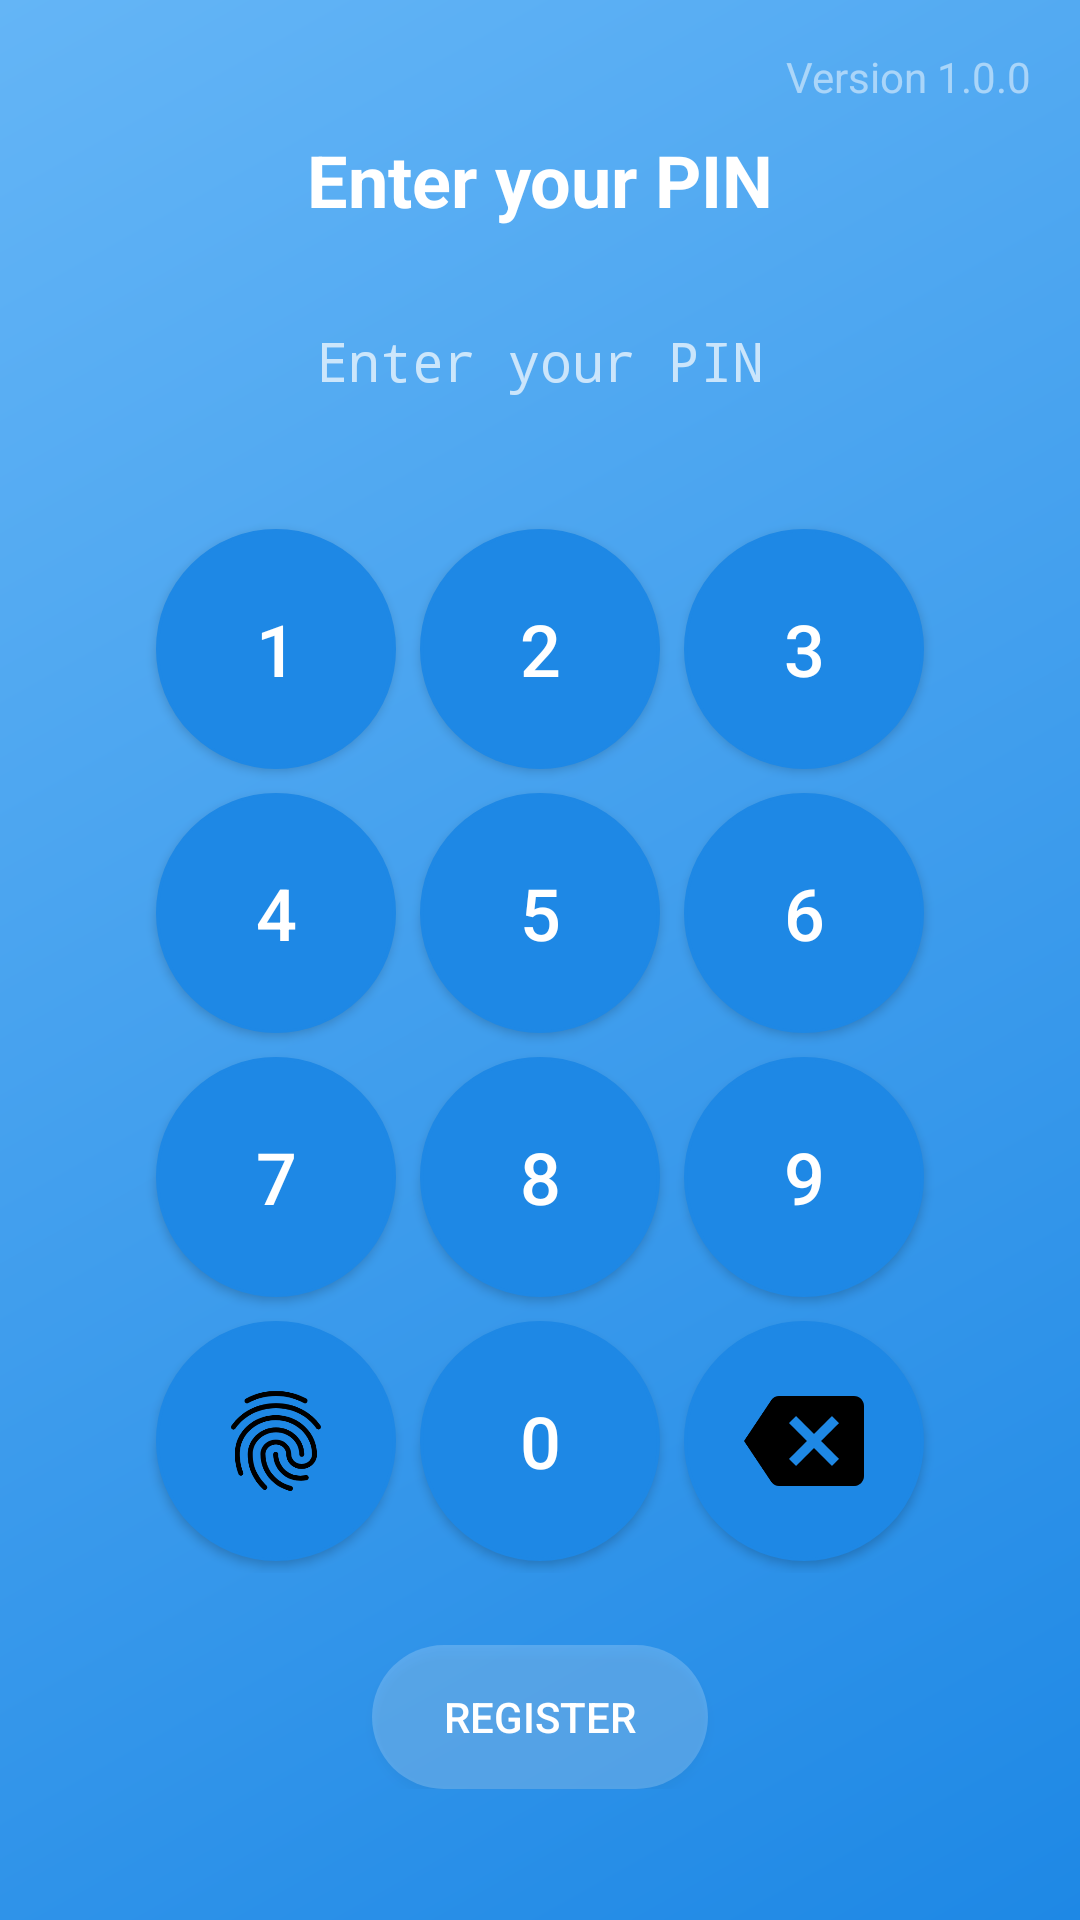

Icon bounding boxes for this 1080 x 1920 phone screenshot, format (x1, y1, x2, y2):
Delete: (684, 1321, 924, 1561)
Fingerprint login: (156, 1321, 396, 1561)
